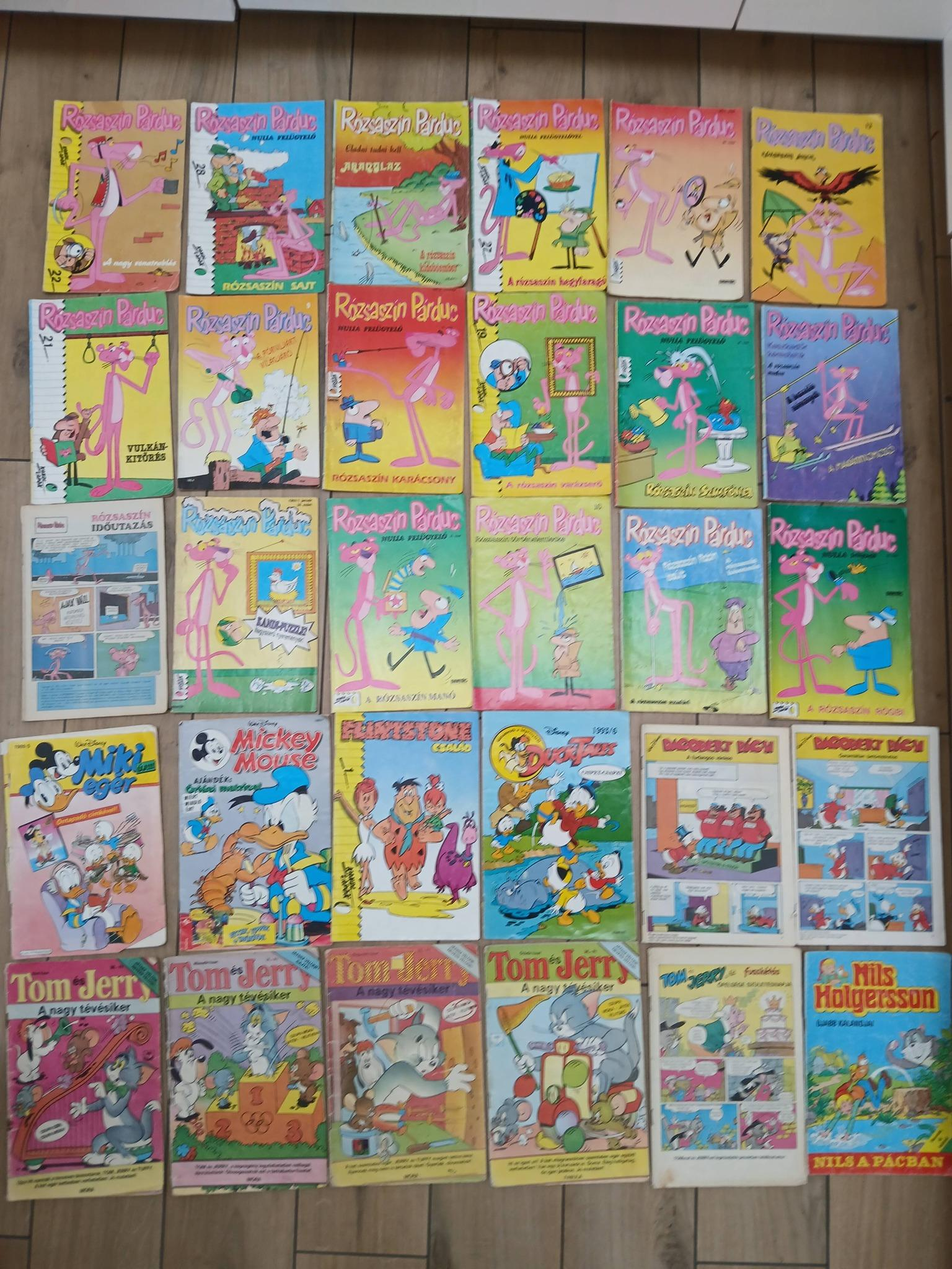comic: (163, 946, 330, 1193), (0, 956, 165, 1200), (485, 940, 648, 1186), (324, 942, 487, 1186), (0, 725, 169, 958), (647, 945, 806, 1187), (479, 709, 635, 942), (179, 715, 331, 952), (792, 723, 945, 950), (331, 711, 480, 942), (641, 725, 795, 945), (804, 950, 951, 1175), (767, 501, 914, 726), (324, 492, 473, 712), (171, 492, 318, 713), (470, 495, 617, 713), (21, 499, 166, 720), (618, 506, 768, 717), (25, 292, 174, 504), (43, 93, 189, 299), (760, 302, 906, 506), (469, 290, 612, 497), (325, 285, 466, 493), (616, 302, 758, 508), (177, 293, 319, 492), (185, 100, 325, 295), (751, 108, 886, 308), (608, 102, 744, 299), (472, 98, 607, 291), (331, 100, 470, 286)
